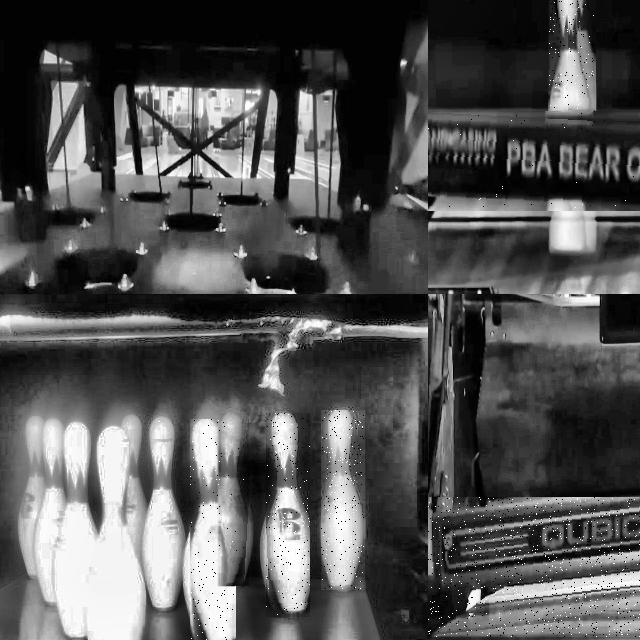bowling-pins: (87, 425, 147, 640), (190, 419, 234, 640), (54, 421, 98, 640), (266, 414, 310, 615), (142, 417, 186, 612), (322, 411, 364, 590), (34, 418, 66, 606), (220, 414, 249, 586), (17, 416, 45, 578), (549, 0, 586, 113), (121, 415, 148, 558), (578, 0, 595, 111)
sweep board: (428, 497, 640, 635), (428, 113, 640, 201)
